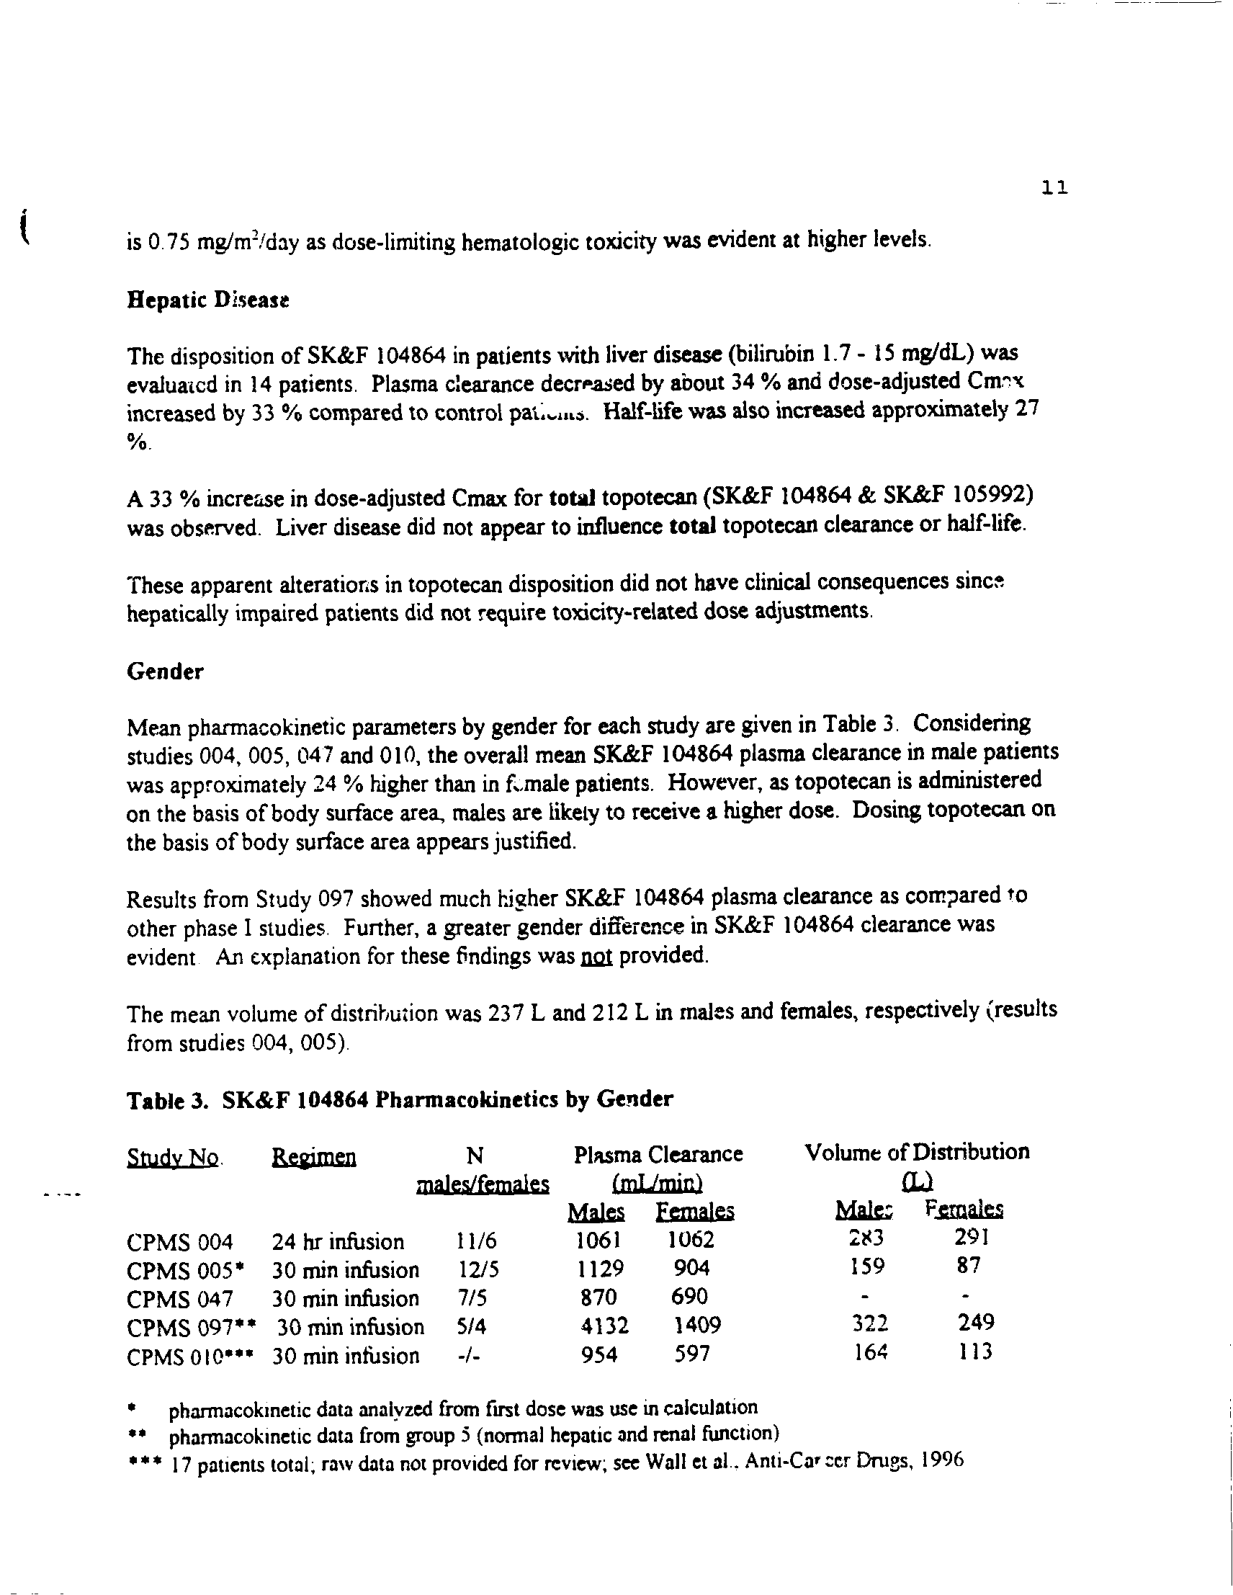nolines: (123, 1133, 1037, 1376)
